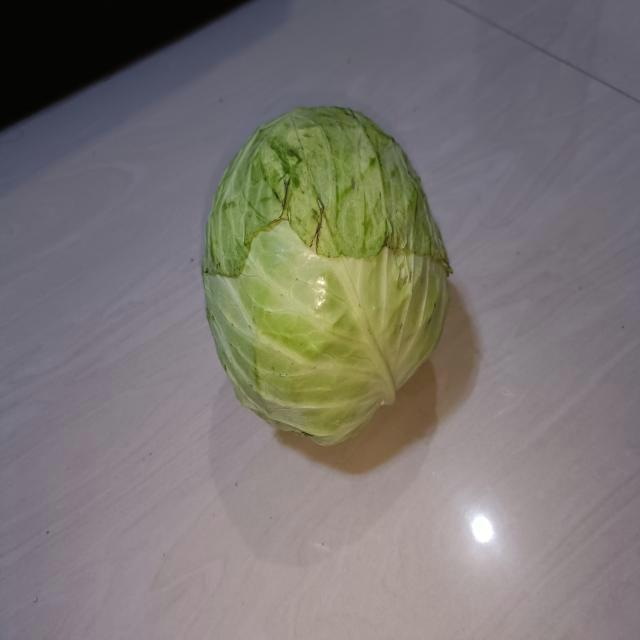cabbage: (194, 95, 456, 448)
